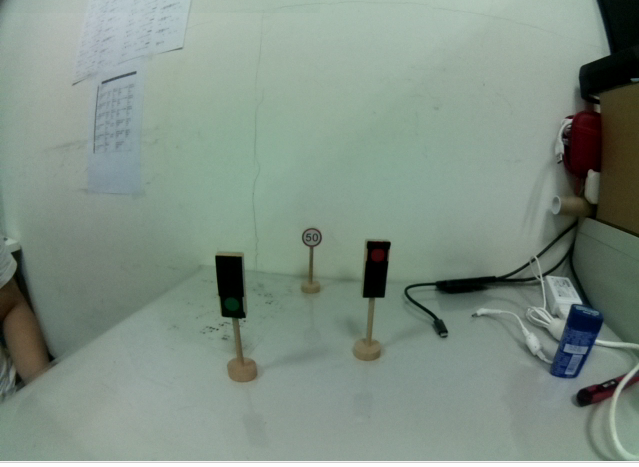Green: (211, 249, 254, 321)
Red: (358, 236, 396, 304)
Speed50: (298, 224, 325, 249)
